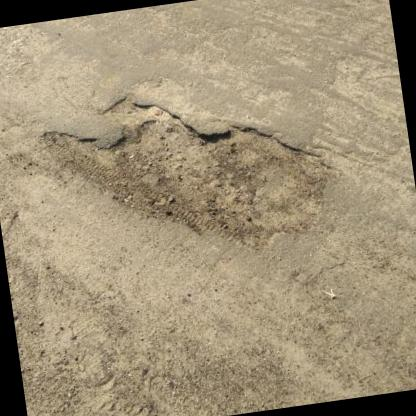pothole: (36, 64, 351, 286)
